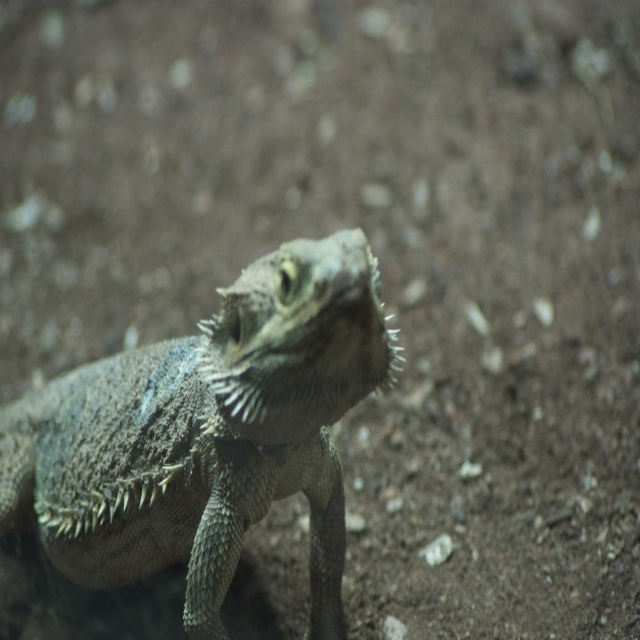Lizard: (0, 227, 406, 638)
